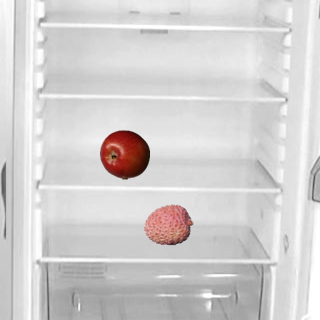Apple Braeburn: (99, 129, 149, 179)
Lychee: (143, 199, 193, 249)
